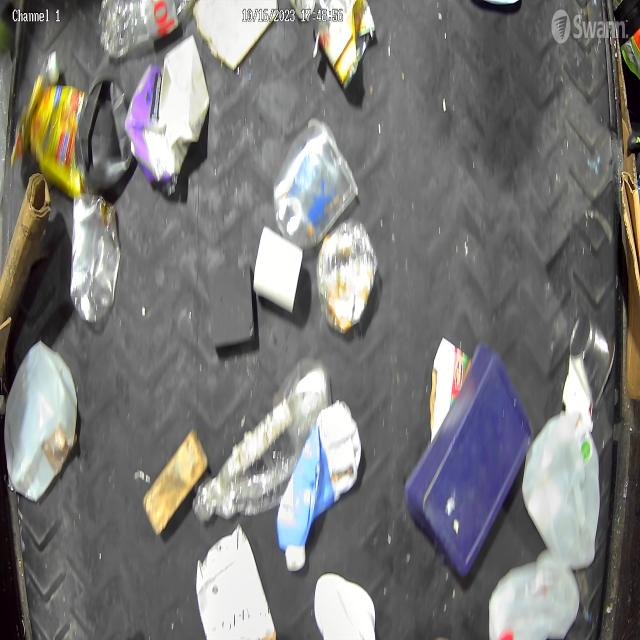milk_jug: (4, 341, 81, 501), (522, 421, 598, 571), (489, 549, 577, 640)
non_white_jug: (20, 64, 123, 192)
plastic_bottle: (198, 358, 336, 522), (72, 190, 118, 322), (94, 2, 200, 44)
